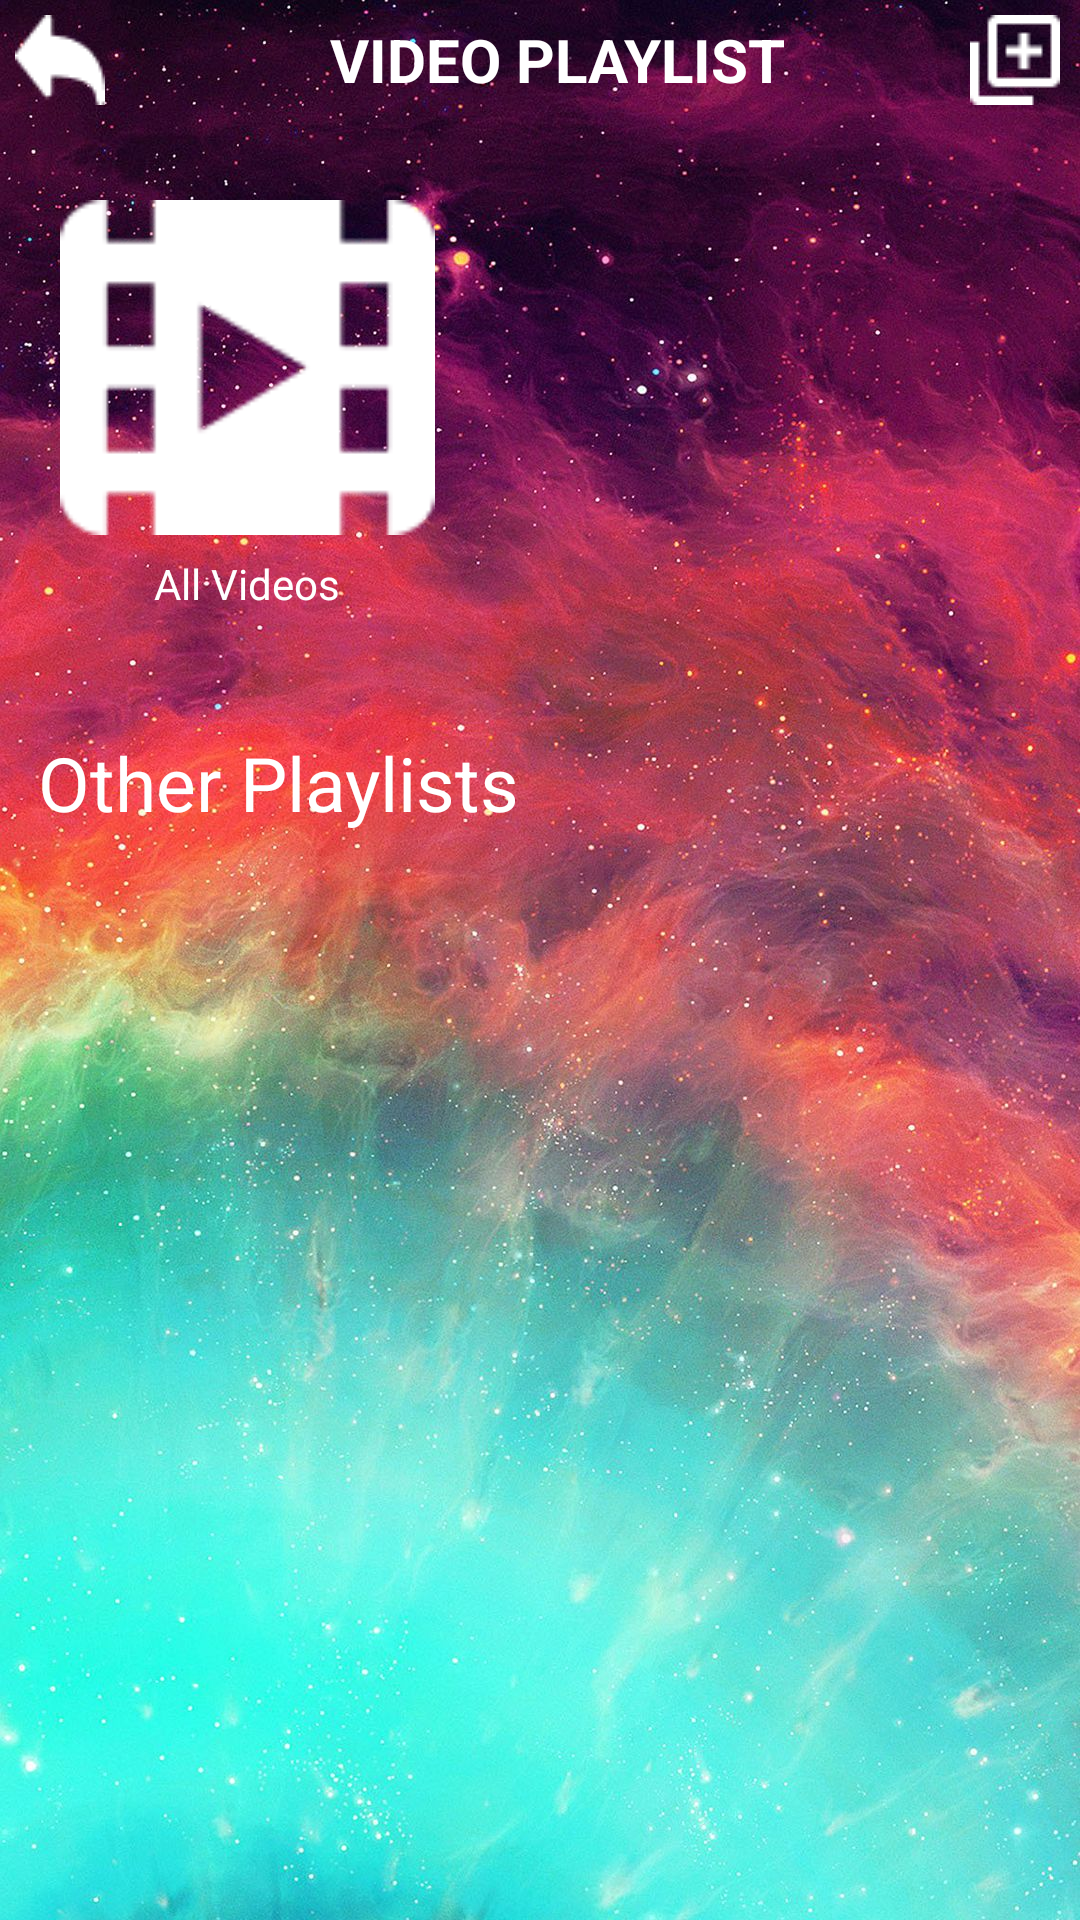

Icon bounding boxes for this 1080×1920 phone screenshot, format bbox(x1, y1, x2, y2):
add list: bbox(949, 0, 1080, 120)
back: bbox(0, 0, 120, 120)
